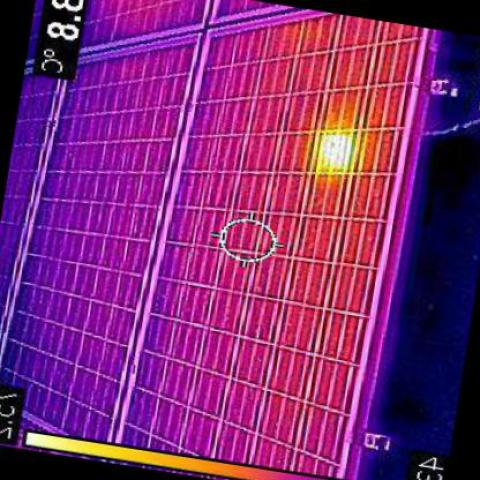fault: (317, 136, 343, 169)
